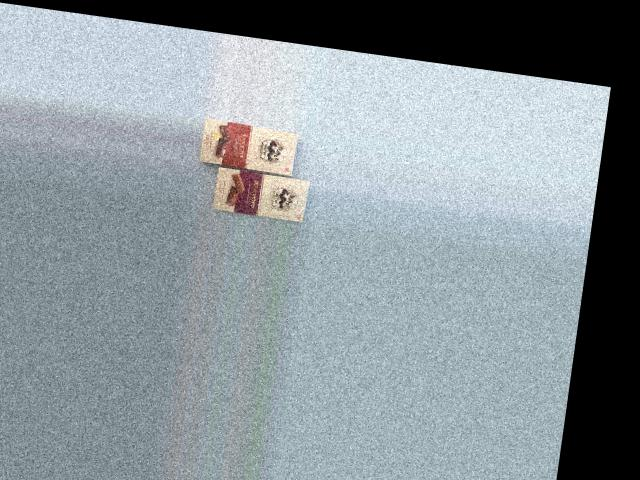chocolate: (195, 116, 303, 185)
